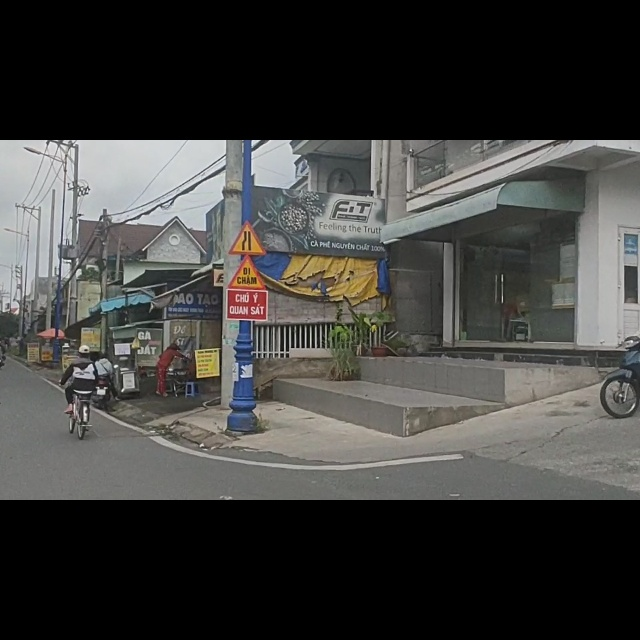Đi chậm: (228, 254, 267, 290)
Đường bị hẹp bên trái: (229, 220, 267, 256)
